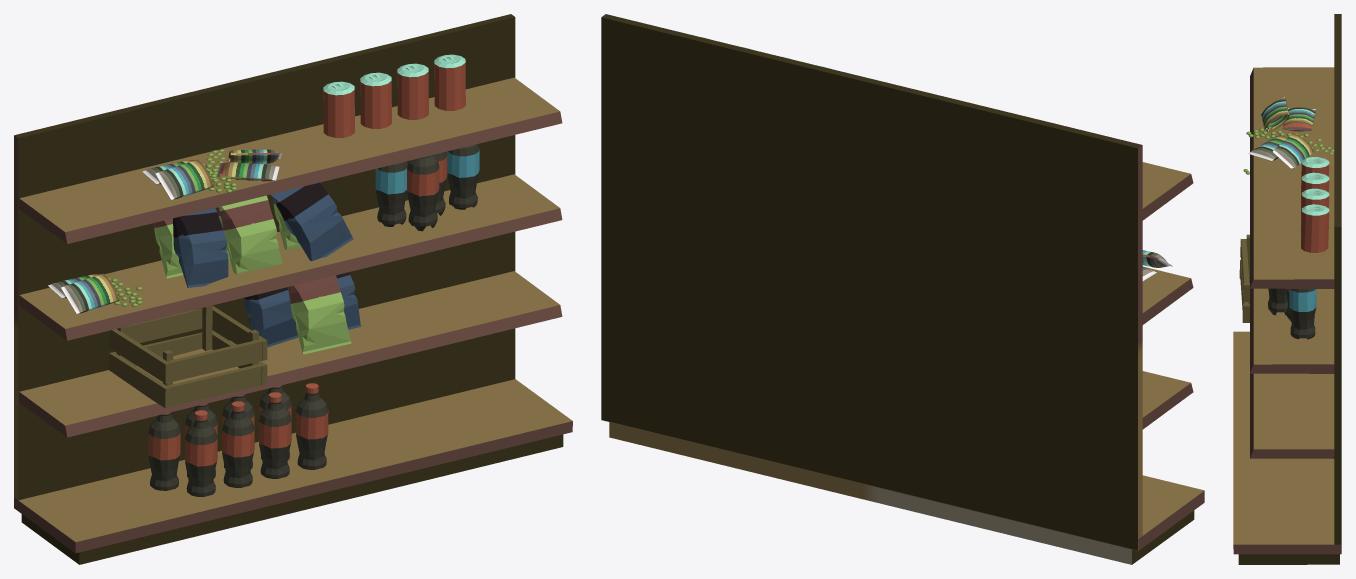
File: shelveWithProducts2.fbx
The picture shows the model from 3 angles, left to right: view 1: azimuth 30°, elevation 25°; view 2: azimuth 150°, elevation 25°; view 3: azimuth 270°, elevation 25°; orthographic projection. The views are drawn at different scales.
Parts seen in each view (by area): view 1: bottom.003, Kostka.003, group478861069.005, group478861069.008, group478861069, group478861069.003, Bottle.005, Bottle.006, Bottle.002, Bottle.001, group478861069.007, Bottle (+12 smaller); view 2: bottom.003; view 3: bottom.003, Skittle_216.001, Skittle_216.002, group688375807, Bottle.011, Kostka.003, group688375807.001, group688375807.002, group688375807.003, Bottle.010.
Boxes of the visible parts, bbox=[...] form: bottom.003: bbox=[14, 14, 572, 564]; Kostka.003: bbox=[109, 305, 267, 408]; group478861069.005: bbox=[270, 182, 353, 260]; group478861069.008: bbox=[287, 275, 351, 354]; group478861069: bbox=[219, 195, 282, 274]; group478861069.003: bbox=[173, 208, 228, 287]; Bottle.005: bbox=[259, 392, 291, 478]; Bottle.006: bbox=[296, 383, 328, 469]; Bottle.002: bbox=[222, 401, 254, 487]; Bottle.001: bbox=[185, 410, 217, 496]; group478861069.007: bbox=[244, 287, 298, 347]; Bottle: bbox=[148, 412, 180, 490]; bottom.003: bbox=[601, 14, 1204, 564]; bottom.003: bbox=[1233, 14, 1341, 564]; Skittle_216.001: bbox=[1246, 97, 1315, 138]; Skittle_216.002: bbox=[1248, 133, 1334, 168]; group688375807: bbox=[1301, 204, 1329, 252]; Bottle.011: bbox=[1289, 289, 1316, 339]; Kostka.003: bbox=[1239, 234, 1249, 322]; group688375807.001: bbox=[1301, 188, 1329, 232]; group688375807.002: bbox=[1301, 172, 1329, 216]; group688375807.003: bbox=[1301, 157, 1329, 200]; Bottle.010: bbox=[1268, 288, 1287, 315].
Size of the model in its own units: 2689 by 2007 by 578.
